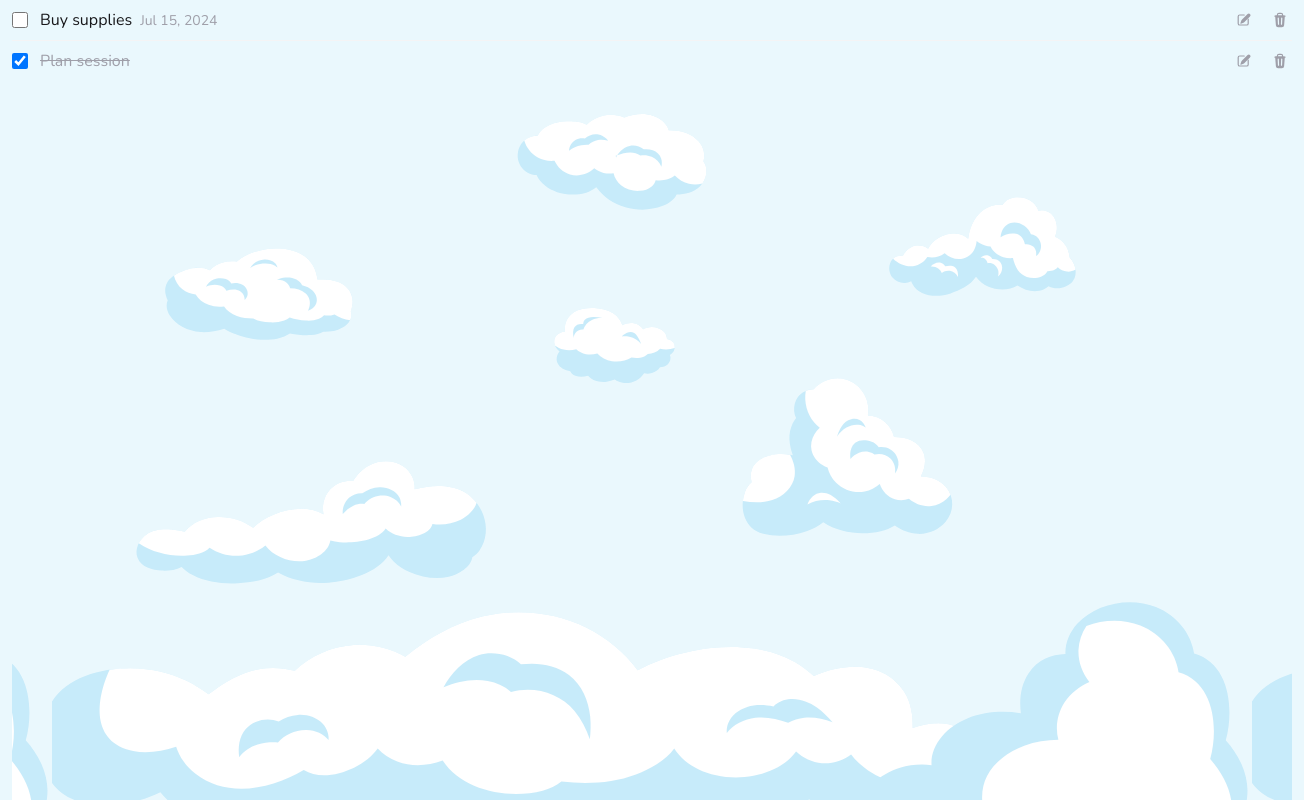
Test: ProjectTodoList › shows error when title is empty on save
Step 1. Click the button named "Edit \"Buy supplies\"" → x=1244, y=20, box [1232,8,1256,32]
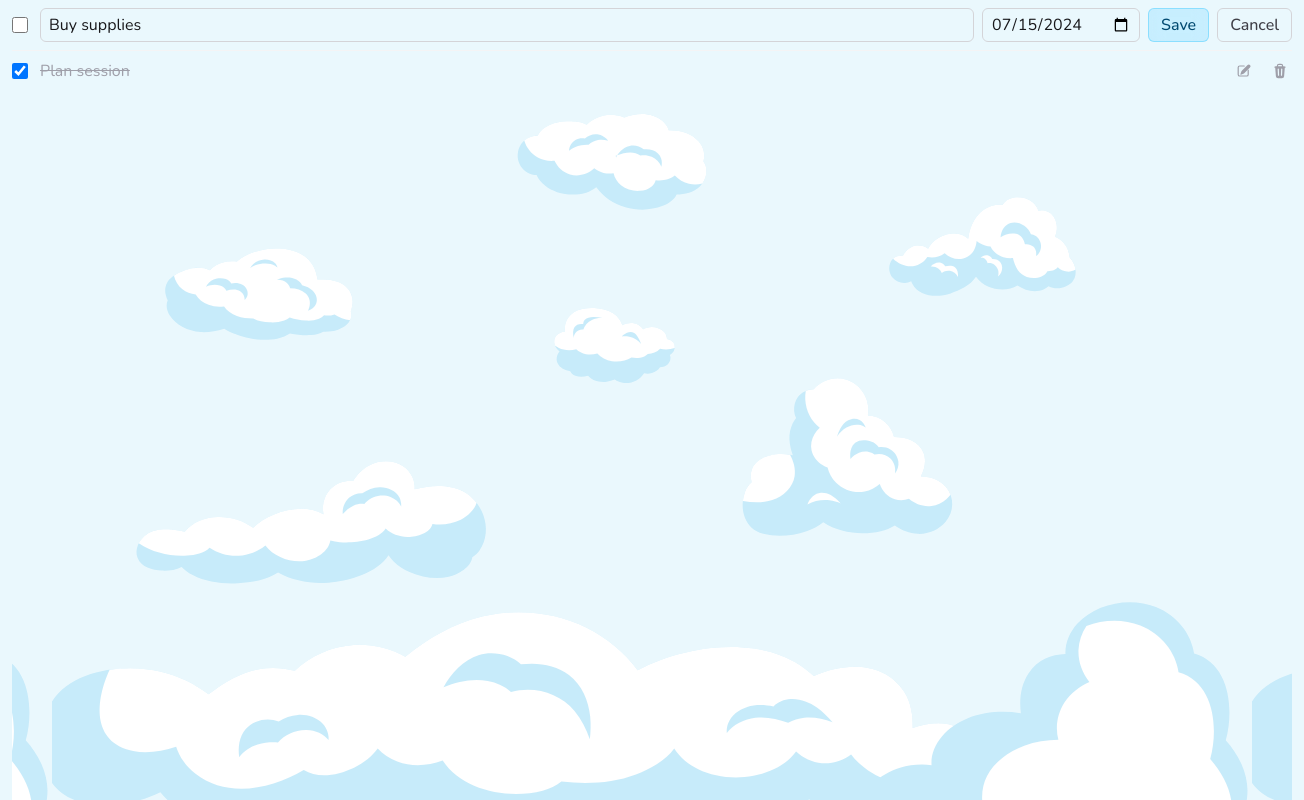
Step 2. Clear the field named "Edit title for \"Buy supplies\"" → x=507, y=25, box [40,8,974,42]
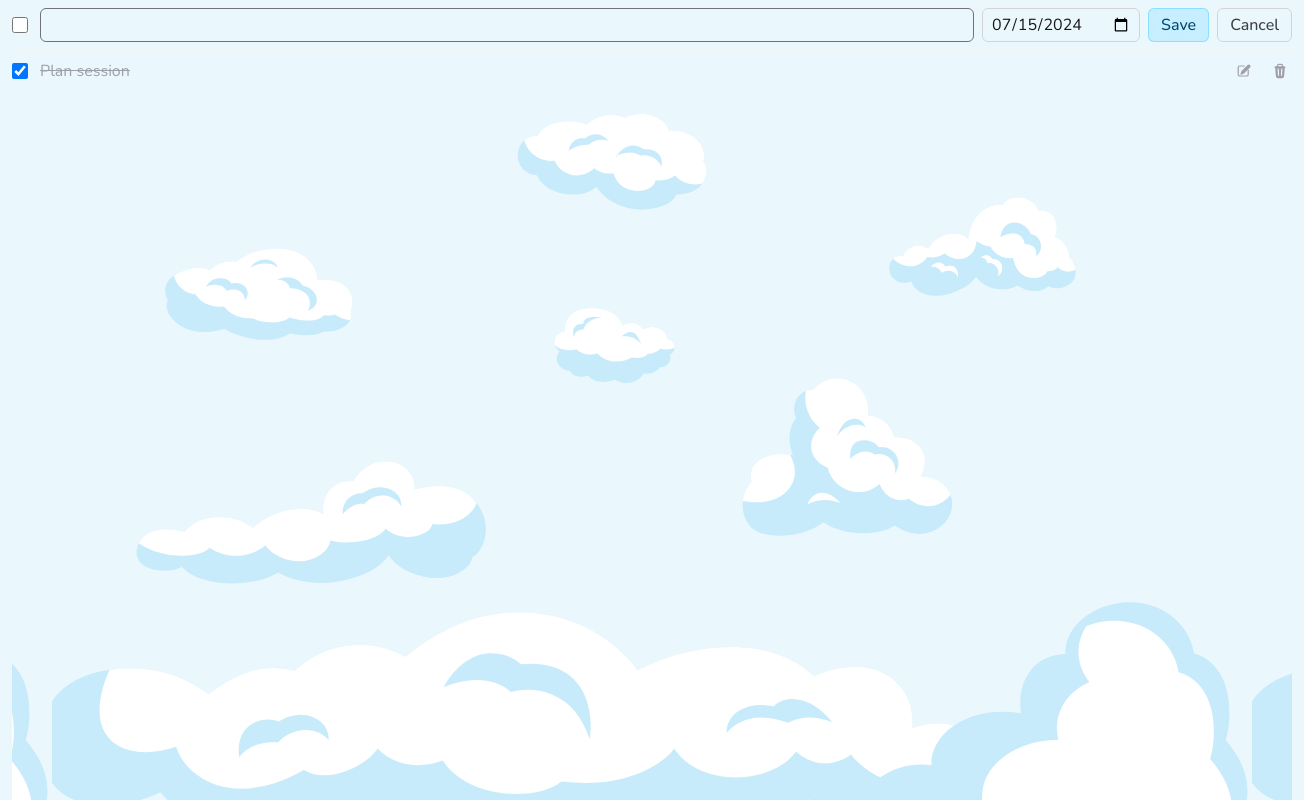
Step 3. Click the button "Save" → x=1179, y=25, box [1148,8,1209,42]
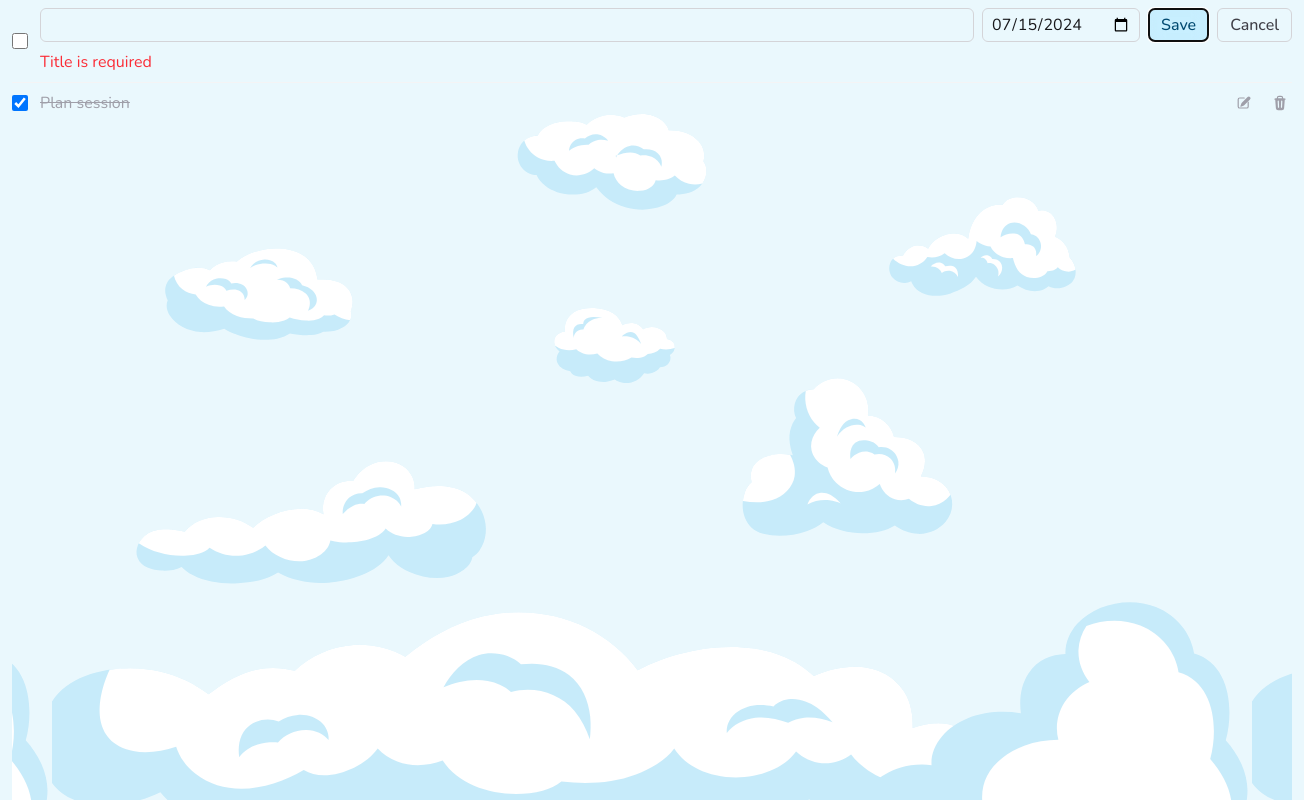
Expected: the text "Title is required" is shown, [40,51,152,73]
